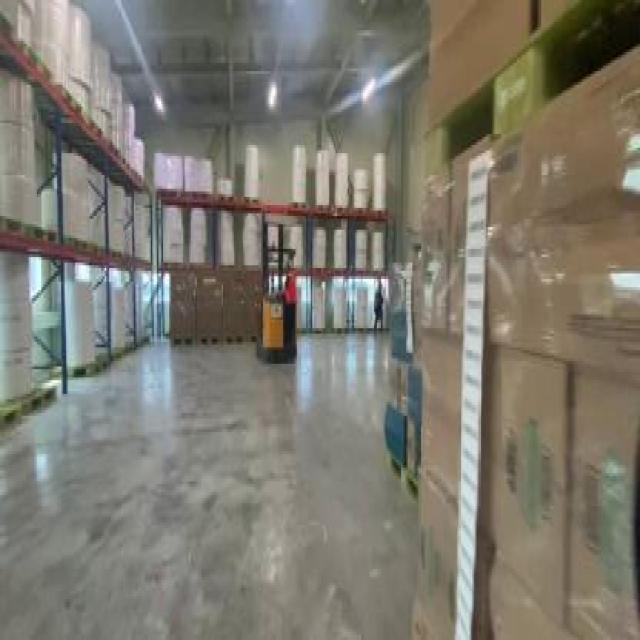box: (390, 96, 638, 637), (412, 2, 637, 140), (168, 266, 264, 348)
person: (369, 279, 386, 336)
robot: (257, 210, 301, 366)
white_roll: (2, 71, 43, 227), (1, 246, 38, 408), (54, 274, 103, 369), (31, 2, 69, 88), (58, 153, 92, 244), (94, 279, 128, 358), (154, 153, 214, 197), (66, 3, 89, 112), (88, 36, 109, 140), (123, 271, 151, 347), (86, 175, 109, 246), (105, 183, 126, 254), (108, 66, 124, 150), (120, 96, 138, 170), (165, 205, 186, 268), (128, 202, 146, 262), (349, 282, 371, 331), (217, 211, 235, 268), (189, 211, 208, 265), (130, 126, 148, 183), (314, 148, 331, 208), (332, 279, 350, 334), (244, 145, 262, 200), (334, 153, 351, 211), (243, 211, 260, 265), (291, 145, 306, 205), (310, 282, 328, 331), (351, 227, 369, 276), (372, 150, 386, 210), (310, 227, 328, 271), (350, 167, 368, 210), (332, 227, 346, 271), (372, 230, 386, 268), (216, 172, 236, 194)
